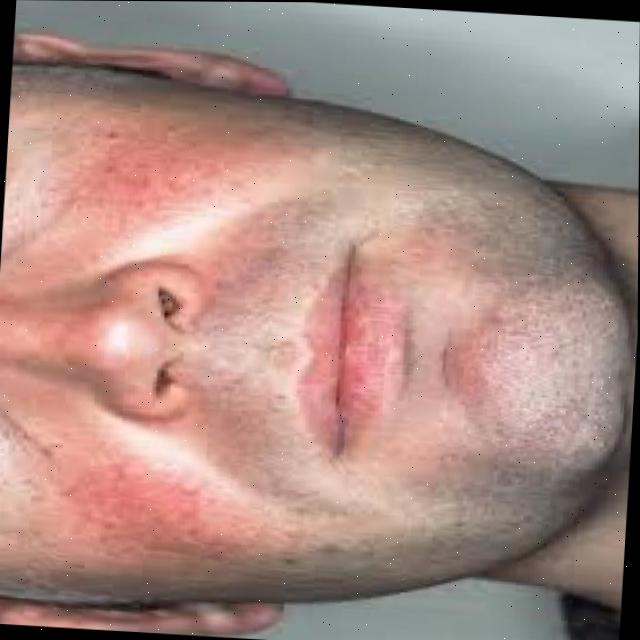Rosacea: (103, 115, 241, 255), (68, 464, 220, 552)
